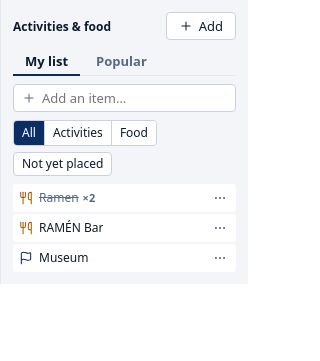
ItemPanel › adds an item from the Add form and closes it
This screenshot has width=320, height=361.
Step 1. Click the button "Add" → (201, 26), box [166, 12, 236, 40]
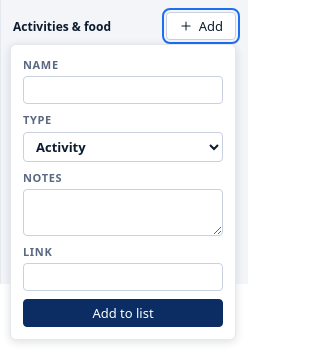
Step 2. Type "Sushi" into the dropdown labelled "Name" → (123, 90), box [23, 76, 223, 104]
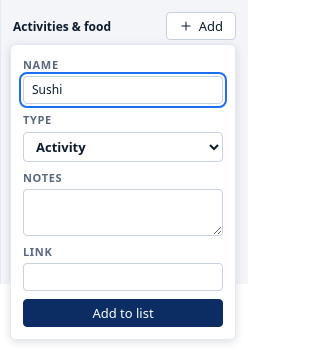
Step 3. Click the button "Add to list" → (123, 313), box [23, 299, 223, 327]
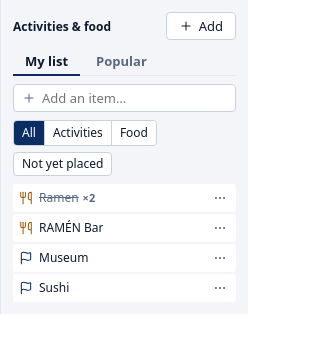
Now the text "Sushi" is shown, box [39, 280, 69, 296]
Now the label labelled "Name" is gone
